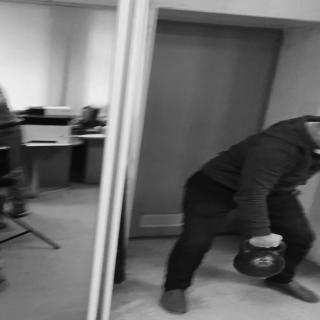kettlebell: (233, 236, 288, 277)
